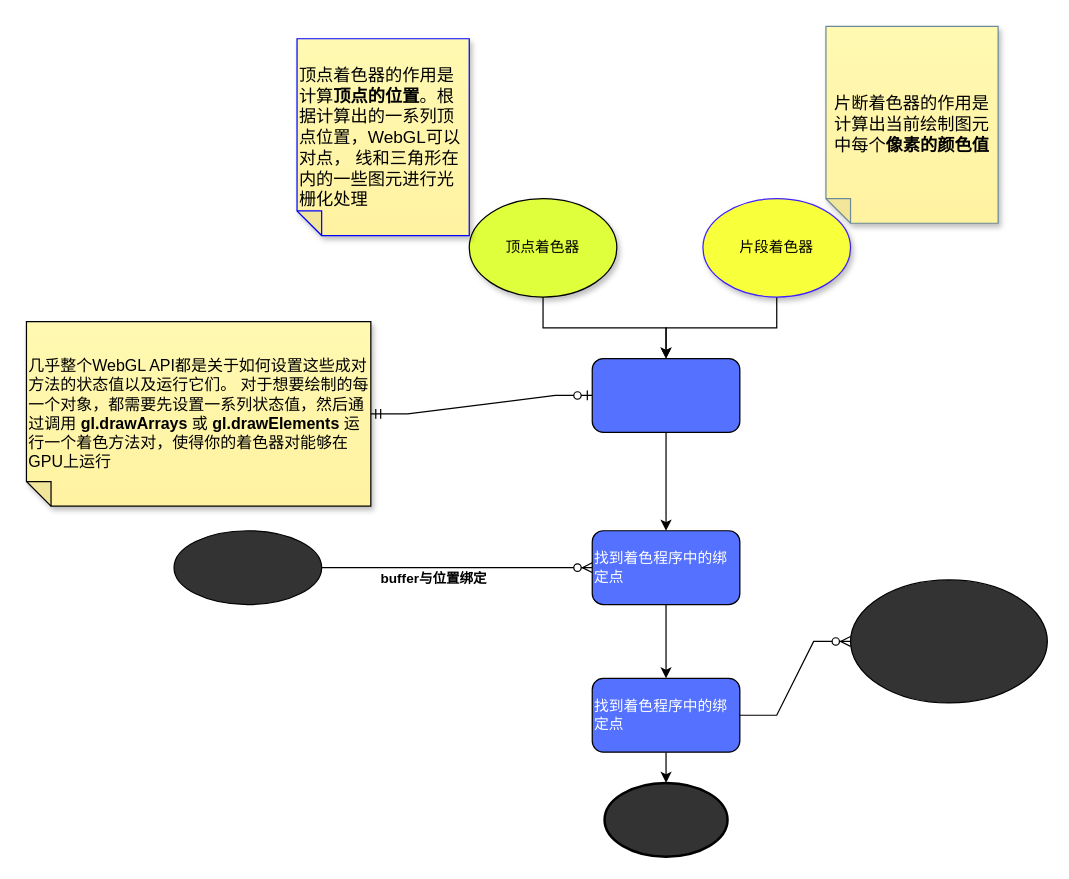
This 1069x879 diagram has some shape labels left out. Each missing label, with the centre of its shape:
创建坐标点数据，通过绑定点j将数据放入buffer: (948,641)
着色程序: (665,394)
绘制图形: (665,819)
这是一个缓冲buffer: (247,567)
